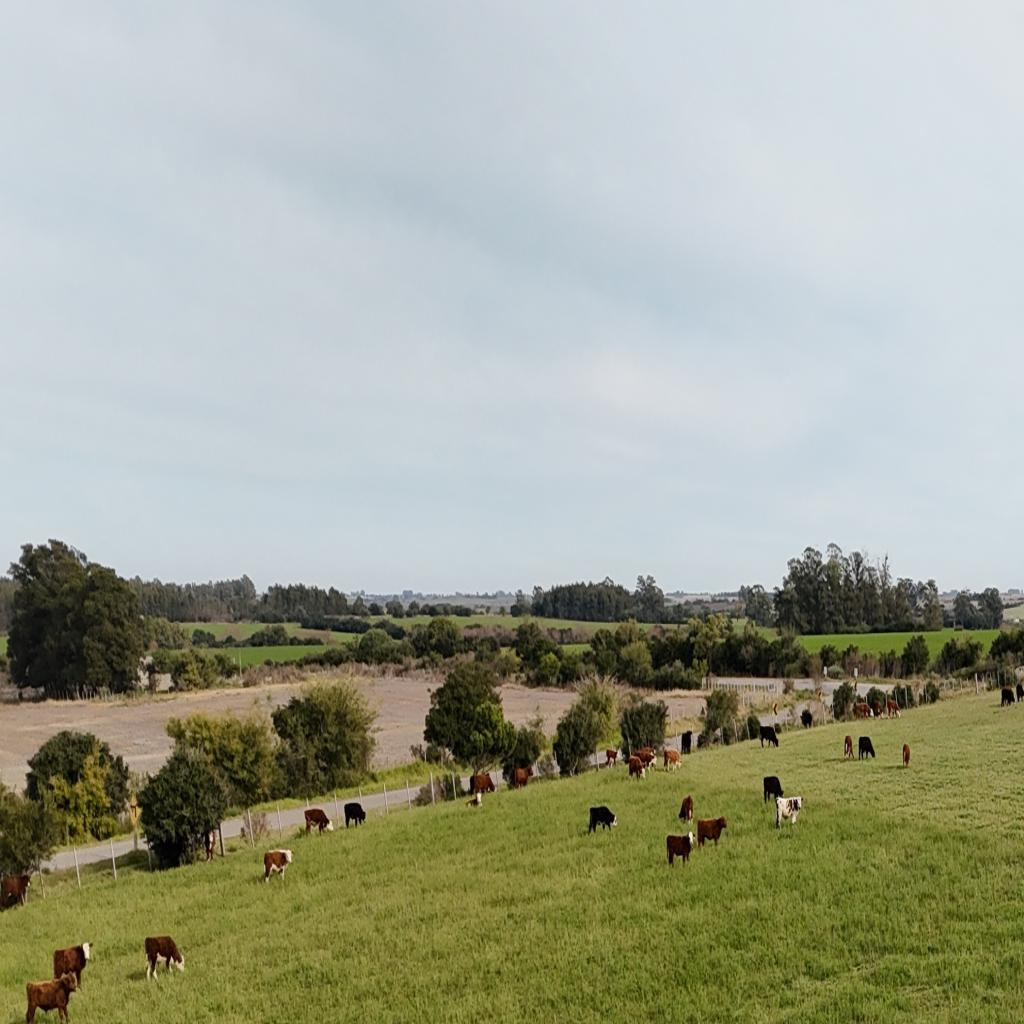cow: (21, 972, 79, 1022), (144, 934, 187, 980), (53, 938, 94, 972), (0, 873, 32, 910), (263, 849, 295, 883), (696, 816, 728, 849), (775, 794, 804, 830), (666, 832, 694, 868), (589, 805, 618, 834), (304, 808, 332, 836), (470, 772, 496, 799), (764, 775, 784, 805), (202, 828, 219, 863), (344, 802, 366, 828), (634, 752, 658, 775), (513, 766, 533, 790), (760, 724, 780, 748), (663, 748, 682, 773), (679, 794, 694, 824), (858, 736, 876, 761), (628, 756, 646, 781), (464, 791, 485, 812), (854, 702, 871, 720), (1001, 688, 1016, 708), (681, 731, 693, 755), (843, 734, 854, 760), (872, 700, 885, 722), (604, 748, 618, 768), (887, 700, 901, 719), (903, 742, 910, 767), (1020, 682, 1024, 702)
